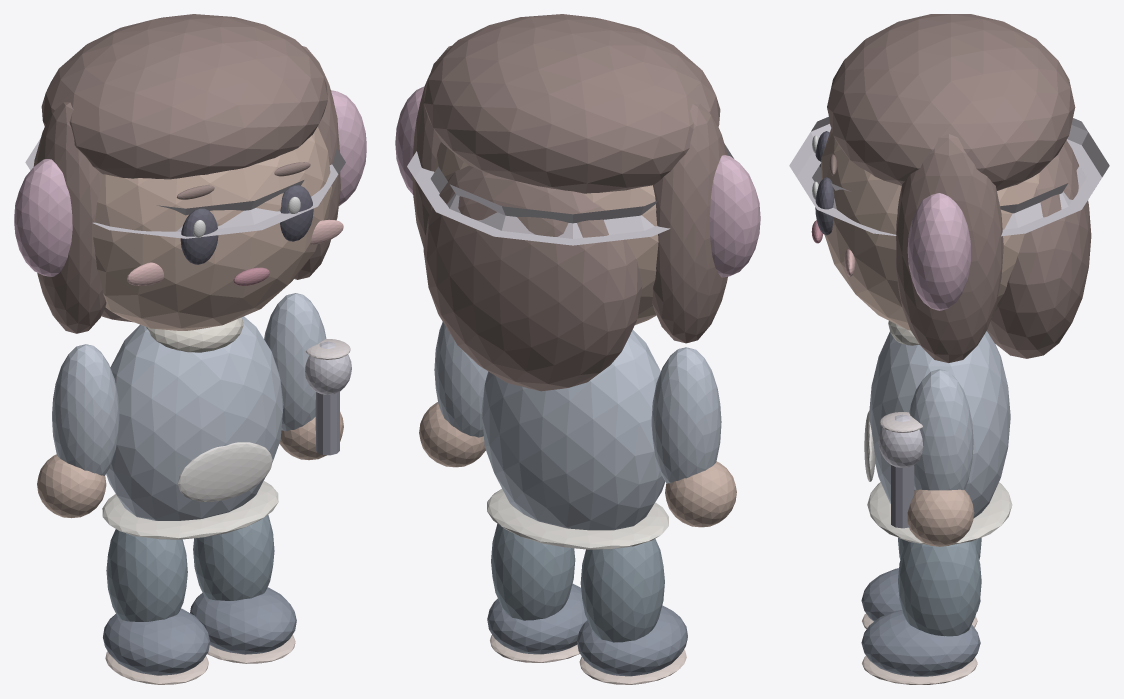
File: chibi-19.glb
3 renders of one model, left to right at view 1: azimuth 30°, elevation 25°; view 2: azimuth 150°, elevation 25°; view 3: azimuth 270°, elevation 25°, orthographic. The views are drawn at different scales.
Parts seen in each view (by area): view 1: hair_cap, head, body, hair_side_L, arm_L, leg_L, earcup_L, leg_R, shoe_L, arm_R, shoe_R, belly_pocket (+16 smaller); view 2: hair_cap, hair_back, body, hair_side_L, arm_L, leg_L, headphone_band, leg_R, earcup_L, shoe_L, shirt_trim, arm_R (+8 smaller); view 3: hair_cap, hair_side_R, hair_back, body, head, leg_R, arm_R, earcup_R, headphone_band, shoe_R, hand_R, shirt_trim (+7 smaller).
Boxes of the visible parts, x1,y1,x2,y2 form: hair_cap: (41,14,327,179); head: (93,126,331,330); body: (106,316,283,520); hair_side_L: (33,102,106,333); arm_L: (52,344,119,475); leg_L: (106,529,187,621); earcup_L: (14,159,72,276); leg_R: (193,515,274,600); shoe_L: (103,608,210,675); arm_R: (264,293,326,431); shoe_R: (190,587,296,654); belly_pocket: (178,442,272,501); hair_cap: (424,14,720,193); hair_back: (423,165,642,391); body: (481,330,665,530); hair_side_L: (652,103,727,343); arm_L: (651,347,721,483); leg_L: (580,539,664,642); headphone_band: (407,143,733,245); leg_R: (491,523,575,620); earcup_L: (709,155,760,277); shoe_L: (577,605,687,676); shirt_trim: (487,489,668,549); arm_R: (434,322,487,437); hair_cap: (827,14,1075,190); hair_side_R: (896,134,1003,362); hair_back: (987,140,1091,358); body: (869,331,1010,518); head: (820,128,1039,330); leg_R: (898,541,981,636); arm_R: (909,369,973,490); earcup_R: (907,193,970,310); headphone_band: (789,116,1109,236); shoe_R: (861,610,980,676); hand_R: (907,489,974,546); shirt_trim: (867,482,1012,544).
Size of the model in its own units: 1.24 by 2.09 by 0.994.
